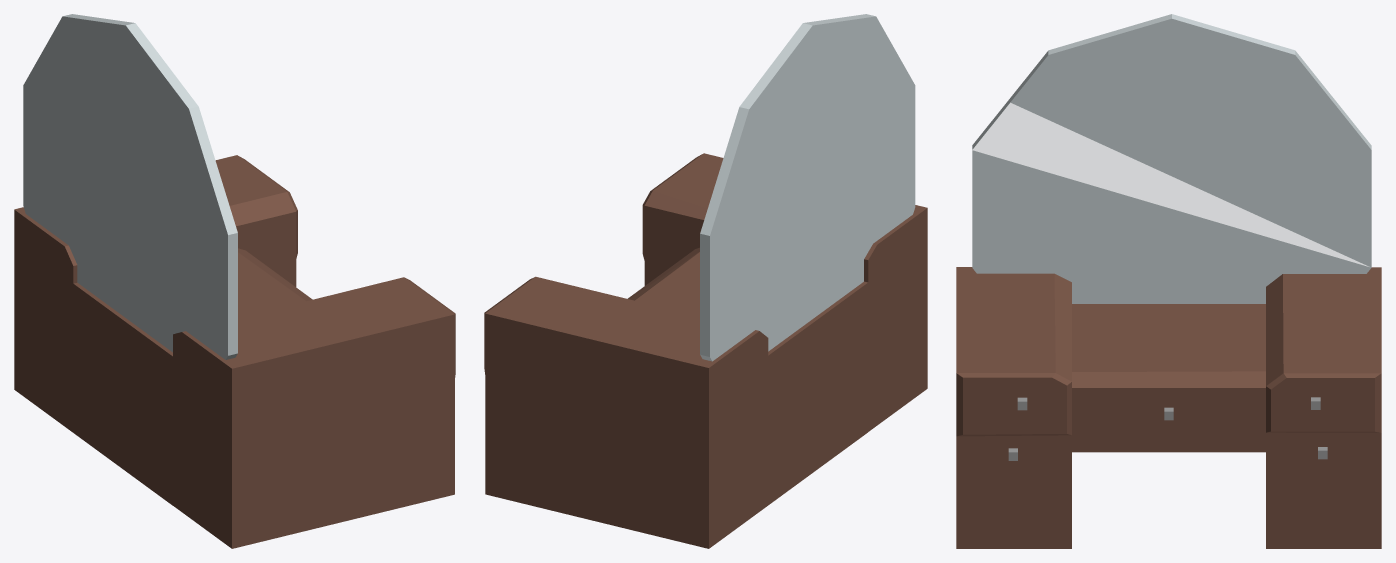
Rendered from Vanity.glb.
The picture shows the model from 3 angles, left to right: view 1: azimuth 30°, elevation 25°; view 2: azimuth 150°, elevation 25°; view 3: azimuth 270°, elevation 25°; orthographic projection. The views are drawn at different scales.
Parts seen in each view (by area): view 1: group501014442, group1583648881, group1379511690, group538785306; view 2: group538785306, group1583648881, group1379511690, group501014442; view 3: group1583648881, group501014442, group538785306, group1379511690.
Part boxes in pixels (left/top/right/bottom): group501014442: left=173, top=277, right=455, bottom=548; group1583648881: left=23, top=14, right=237, bottom=359; group1379511690: left=73, top=248, right=312, bottom=505; group538785306: left=14, top=155, right=297, bottom=432; group538785306: left=484, top=276, right=768, bottom=548; group1583648881: left=700, top=14, right=915, bottom=361; group1379511690: left=627, top=247, right=868, bottom=504; group501014442: left=642, top=153, right=927, bottom=431; group1583648881: left=972, top=14, right=1371, bottom=303; group501014442: left=956, top=267, right=1071, bottom=548; group538785306: left=1266, top=267, right=1381, bottom=548; group1379511690: left=1072, top=304, right=1265, bottom=452.
Bounding box in the file's own units: 0.5558 × 0.9961 × 0.8905.
